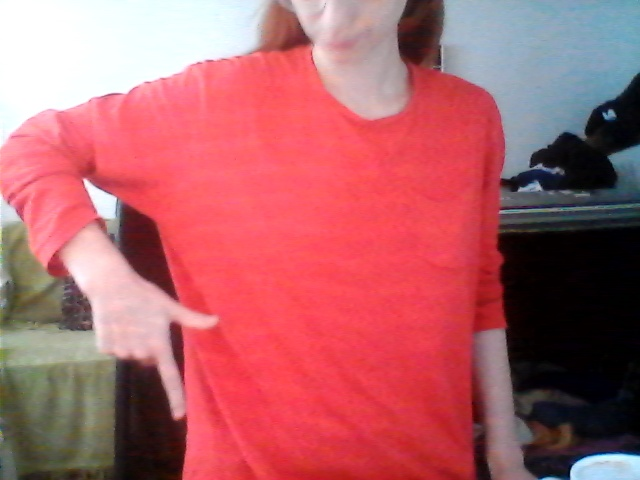policia: (75, 261, 239, 432)
